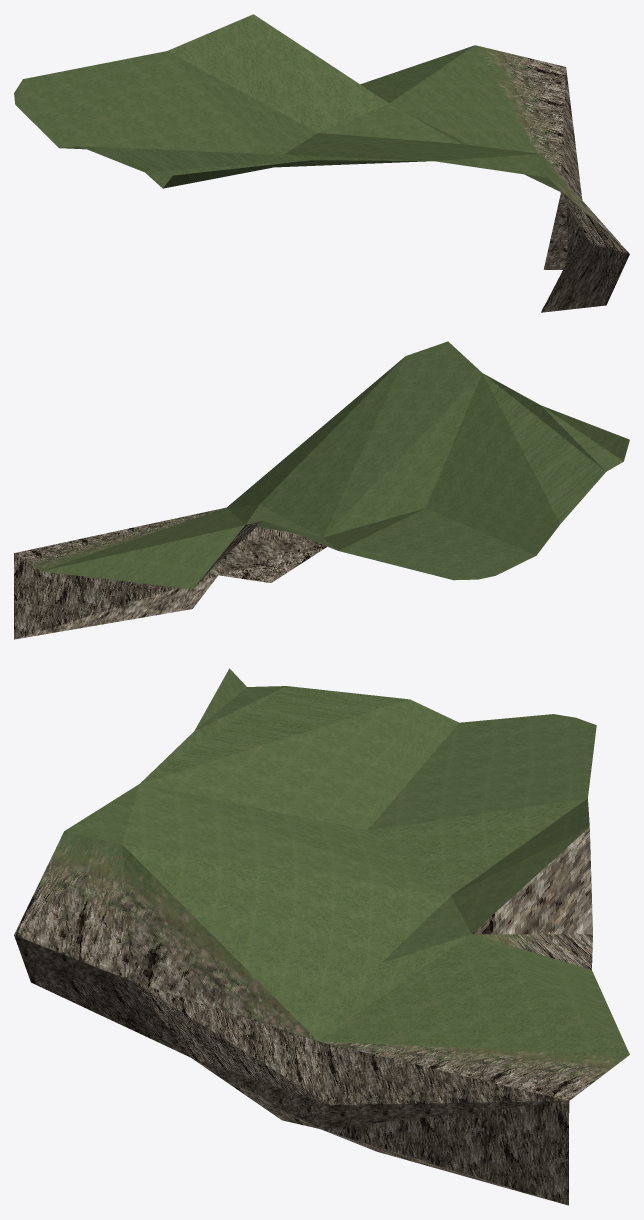
File: LODa_carisle_mid_landmass_00_03.fbx
3 views of the same model, one above another, from view 1: azimuth 30°, elevation 25°; view 2: azimuth 150°, elevation 25°; view 3: azimuth 270°, elevation 25° (orthographic). The views are drawn at different scales.
Parts seen in each view (by area): view 1: LODa_carisle_mid_landmass_00_03; view 2: LODa_carisle_mid_landmass_00_03; view 3: LODa_carisle_mid_landmass_00_03.
Part boxes in pixels (x1,y1,x2,y2): LODa_carisle_mid_landmass_00_03: (14,14,629,312); LODa_carisle_mid_landmass_00_03: (14,341,629,639); LODa_carisle_mid_landmass_00_03: (14,668,629,1205).
Size of the model in its own units: 63.33 by 58.19 by 27.26.
